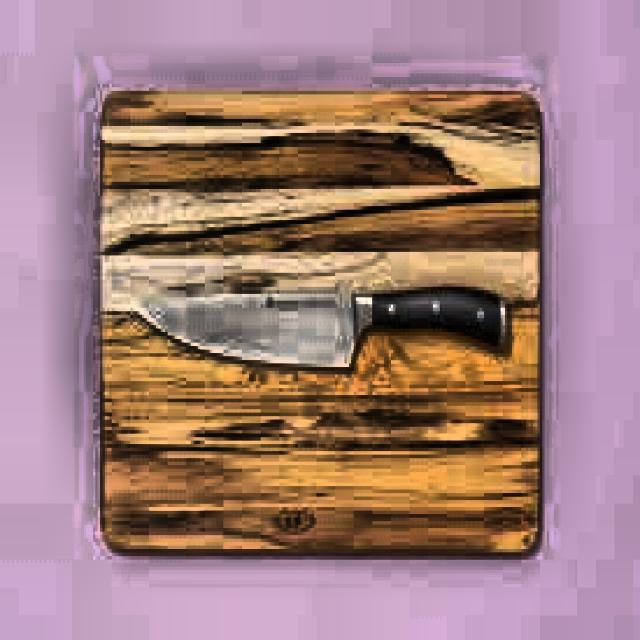knife: (135, 292, 506, 371)
